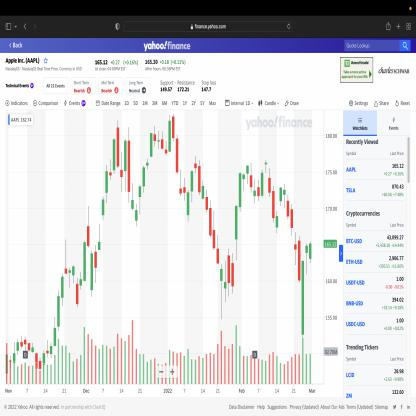Bearish 3 Black Crows: (209, 198, 220, 266), (205, 187, 216, 251)
Bearish Abandoned Baby: (260, 158, 272, 200)
Bearish Evening Star Doji: (190, 154, 202, 204)
Bearish Kicker: (282, 182, 290, 222)
Bullish 3 White Soldiers: (53, 272, 64, 348)
Bullish Kicker: (94, 220, 101, 284)
